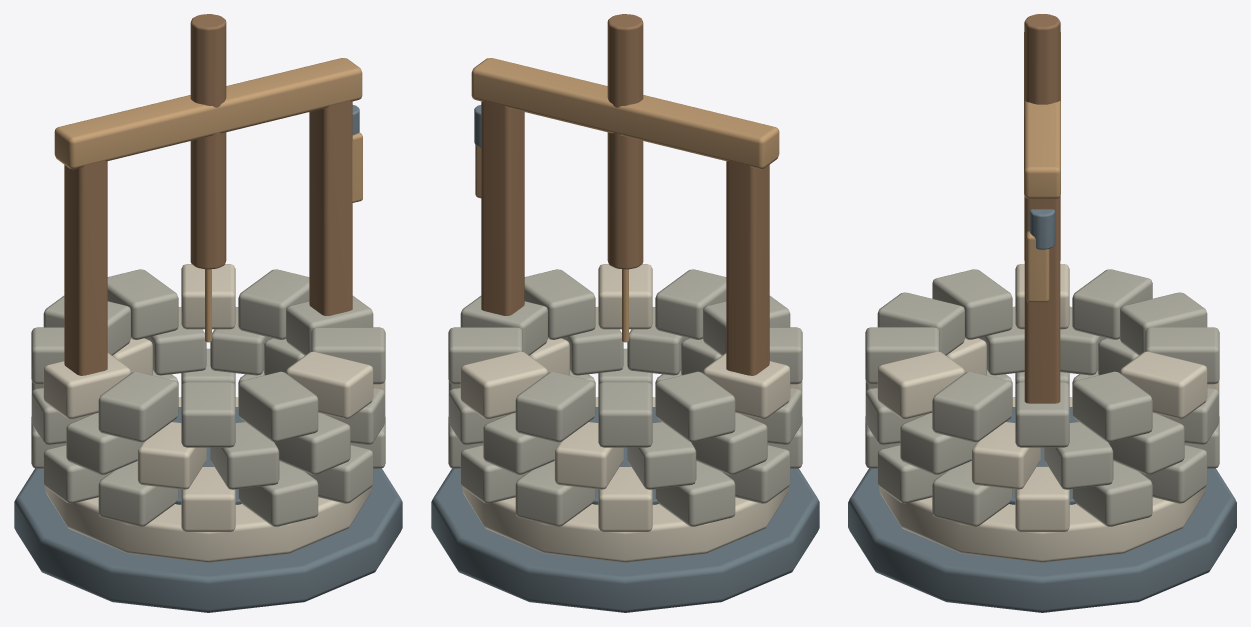
File: SM_AncientWell_01.fbx
3 renders of one model, left to right at view 1: azimuth 30°, elevation 25°; view 2: azimuth 150°, elevation 25°; view 3: azimuth 270°, elevation 25°, orthographic.
Parts seen in each view (by area): view 1: SM_AncientWell_01; view 2: SM_AncientWell_01; view 3: SM_AncientWell_01.
Part boxes in pixels (x1,y1,x2,y2): SM_AncientWell_01: (14,14,402,612); SM_AncientWell_01: (431,14,819,612); SM_AncientWell_01: (848,14,1236,612).
Bounding box in the file's own units: 2.5 × 3.64 × 2.5.
